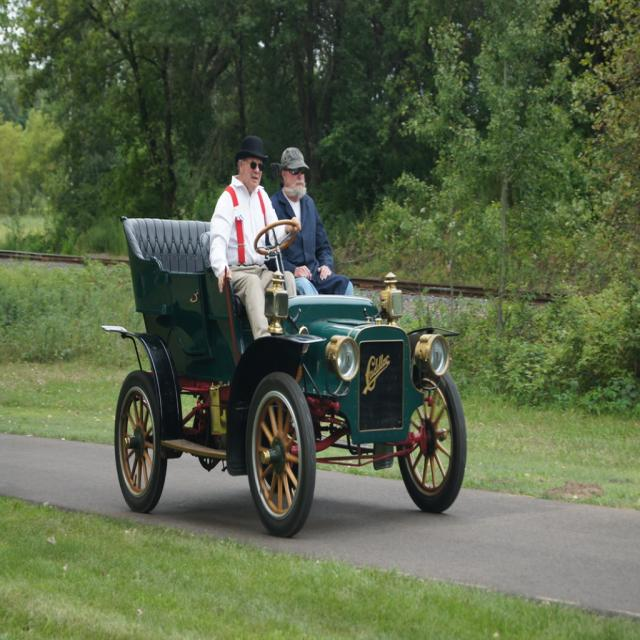car: (94, 206, 464, 534)
